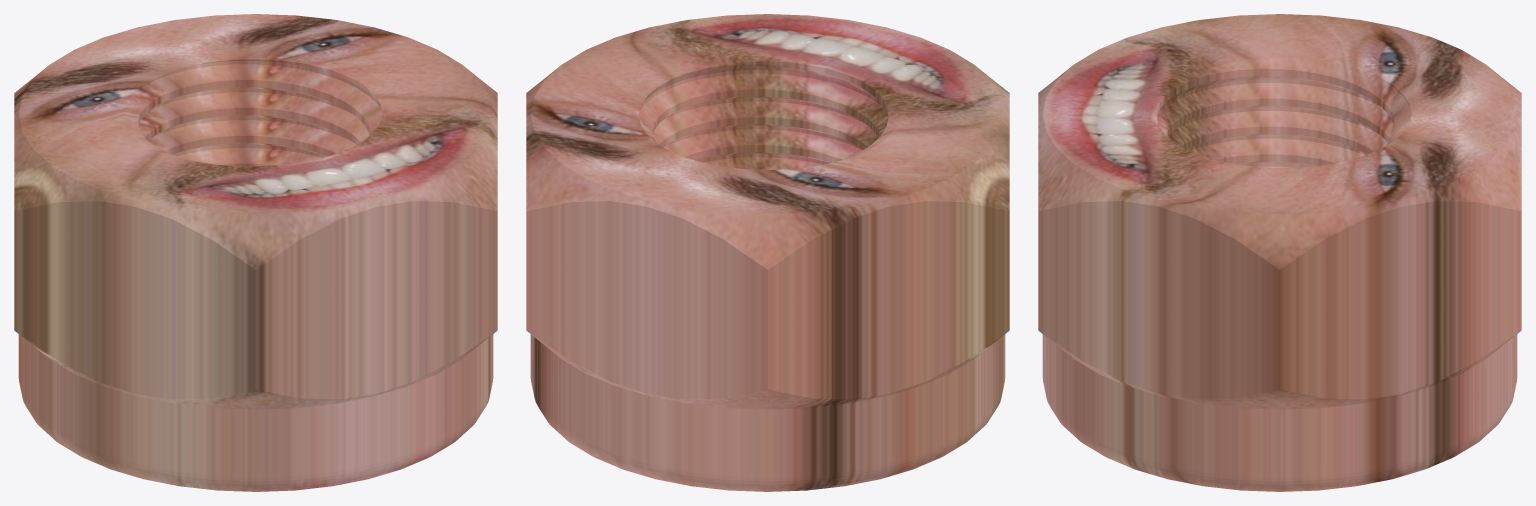
Rendered from kroeger-lock-nut.glb.
3 renders of one model, left to right at view 1: azimuth 30°, elevation 25°; view 2: azimuth 150°, elevation 25°; view 3: azimuth 270°, elevation 25°, orthographic.
Visible parts, largest first — view 1: Nut.001; view 2: Nut.001; view 3: Nut.001.
Part boxes in pixels (x1,y1,x2,y2): Nut.001: (14,14,497,491); Nut.001: (526,14,1009,491); Nut.001: (1038,14,1521,491).
Size of the model in its own units: 0.0127 by 0.00717 by 0.011.
Materials: 1 (1 with a texture image).
